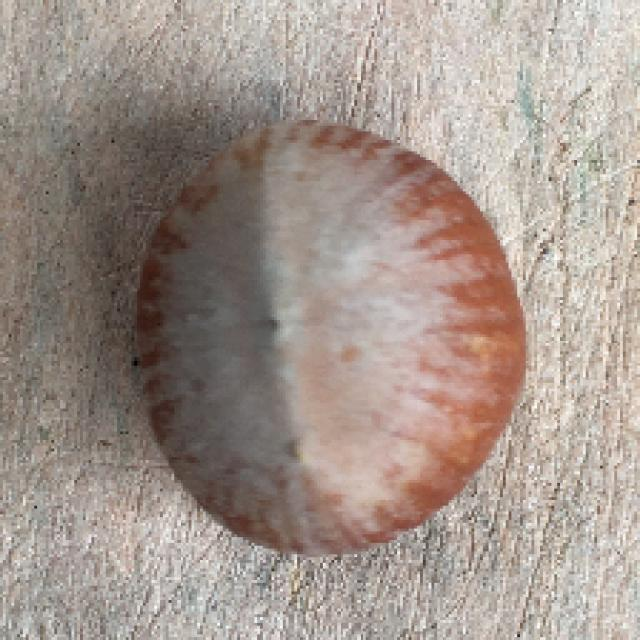qualityHazelnut: (132, 118, 531, 553)
